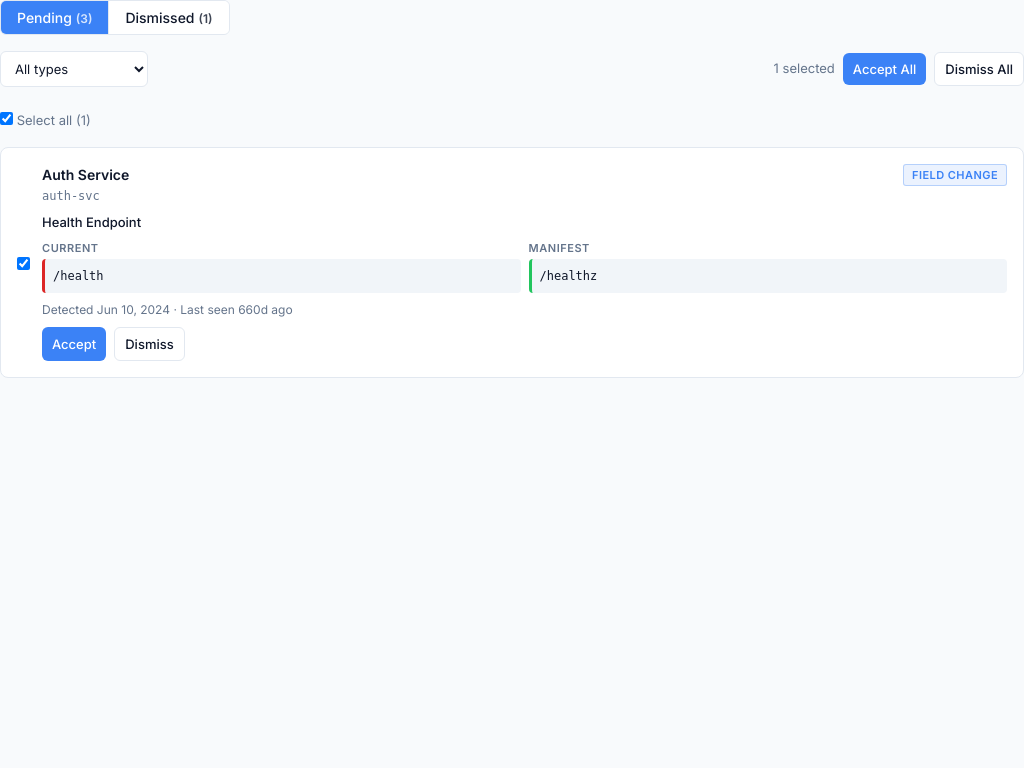
Test: DriftReview › shows bulk dismiss confirmation dialog
Click the button "Dismiss All": (979, 69) [934,52,1023,86]
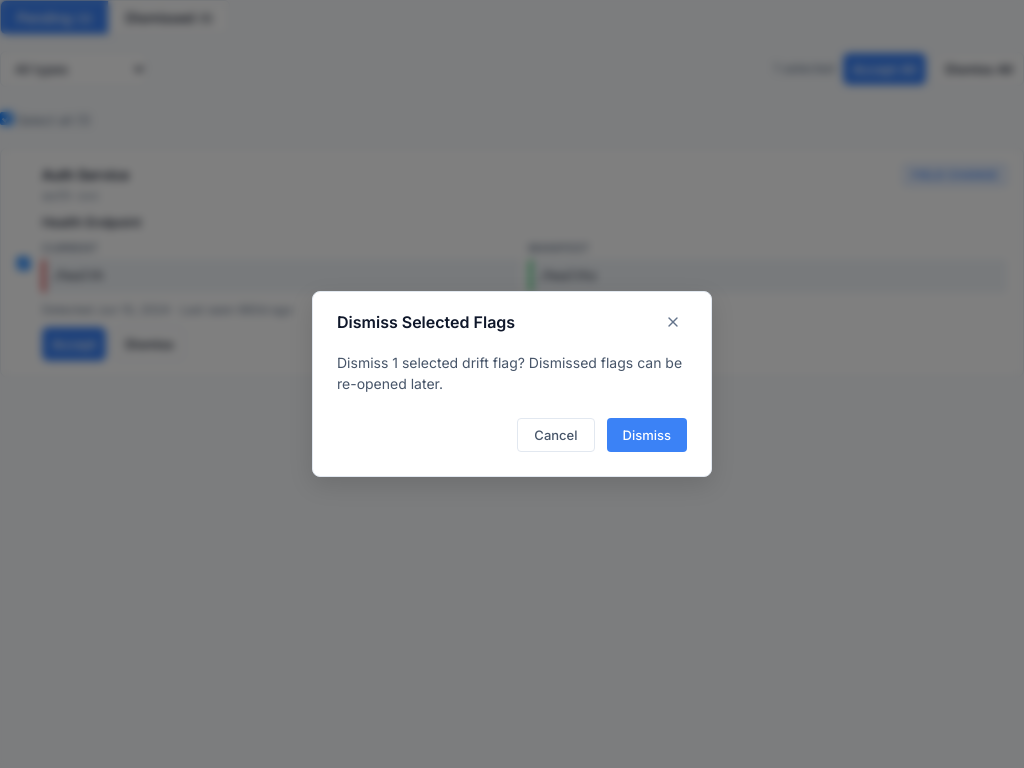
Expected: the heading "Dismiss Selected Flags" is shown, [337,312,515,332]
Expected: the text "Dismiss 1 selected drift flag?" is shown, [337,354,682,392]
